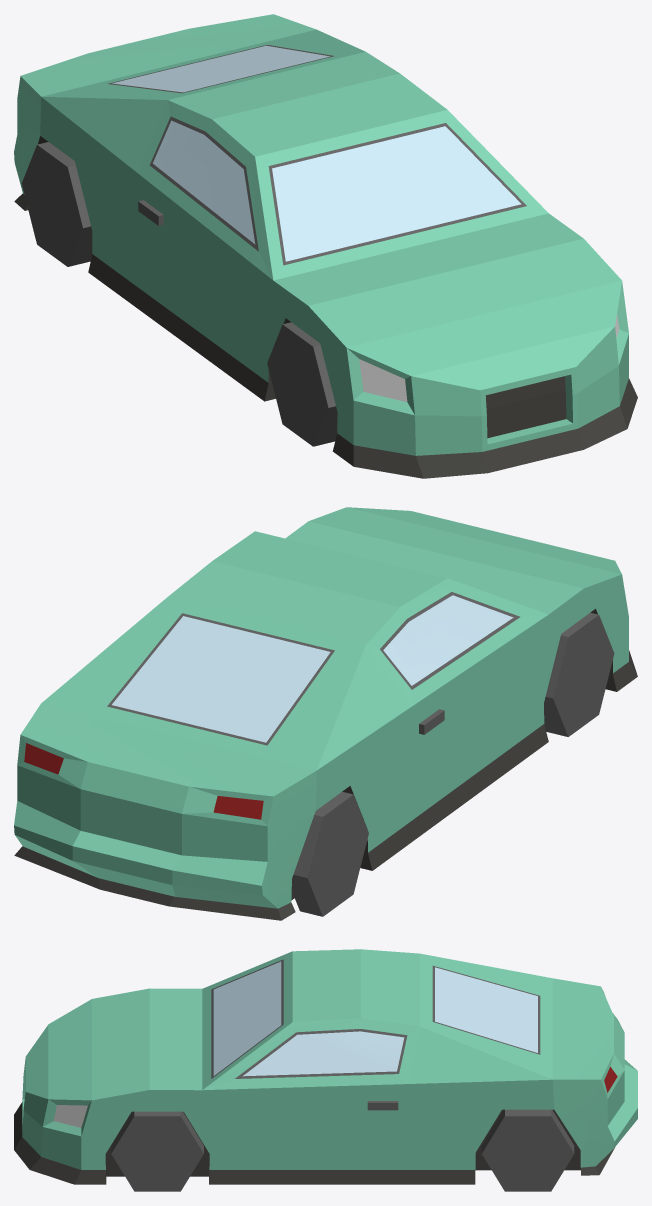
File: normal1.glb
The picture shows the model from 3 angles, top to bottom: view 1: azimuth 30°, elevation 25°; view 2: azimuth 150°, elevation 25°; view 3: azimuth 270°, elevation 25°; orthographic projection. The views are drawn at different scales.
Visible parts, largest first — view 1: Car_3_2; view 2: Car_3_2; view 3: Car_3_2.
Part boxes in pixels (x1=…): Car_3_2: x1=14, y1=14, x2=637, y2=478; Car_3_2: x1=14, y1=507, x2=637, y2=920; Car_3_2: x1=14, y1=949, x2=637, y2=1191.
Bounding box in the file's own units: 2.96 × 2.03 × 7.4.
1 material, 1 textured.
